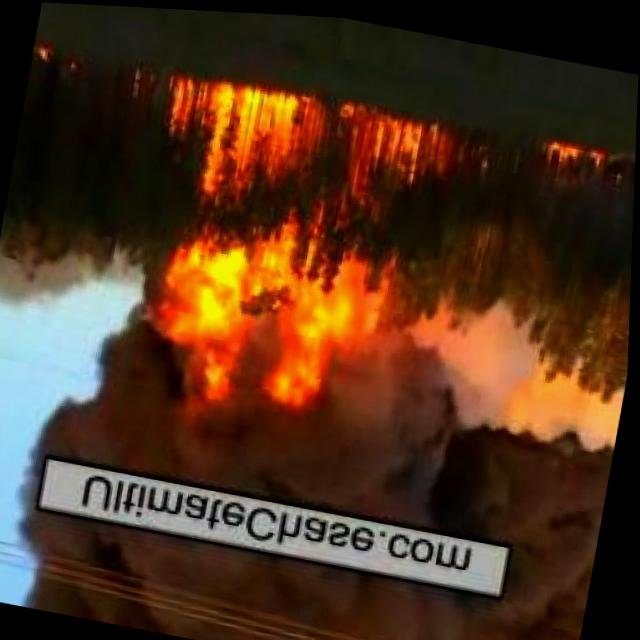Fire: (113, 68, 462, 450), (528, 132, 627, 188)
Smoke: (31, 328, 617, 557), (16, 503, 591, 640)
